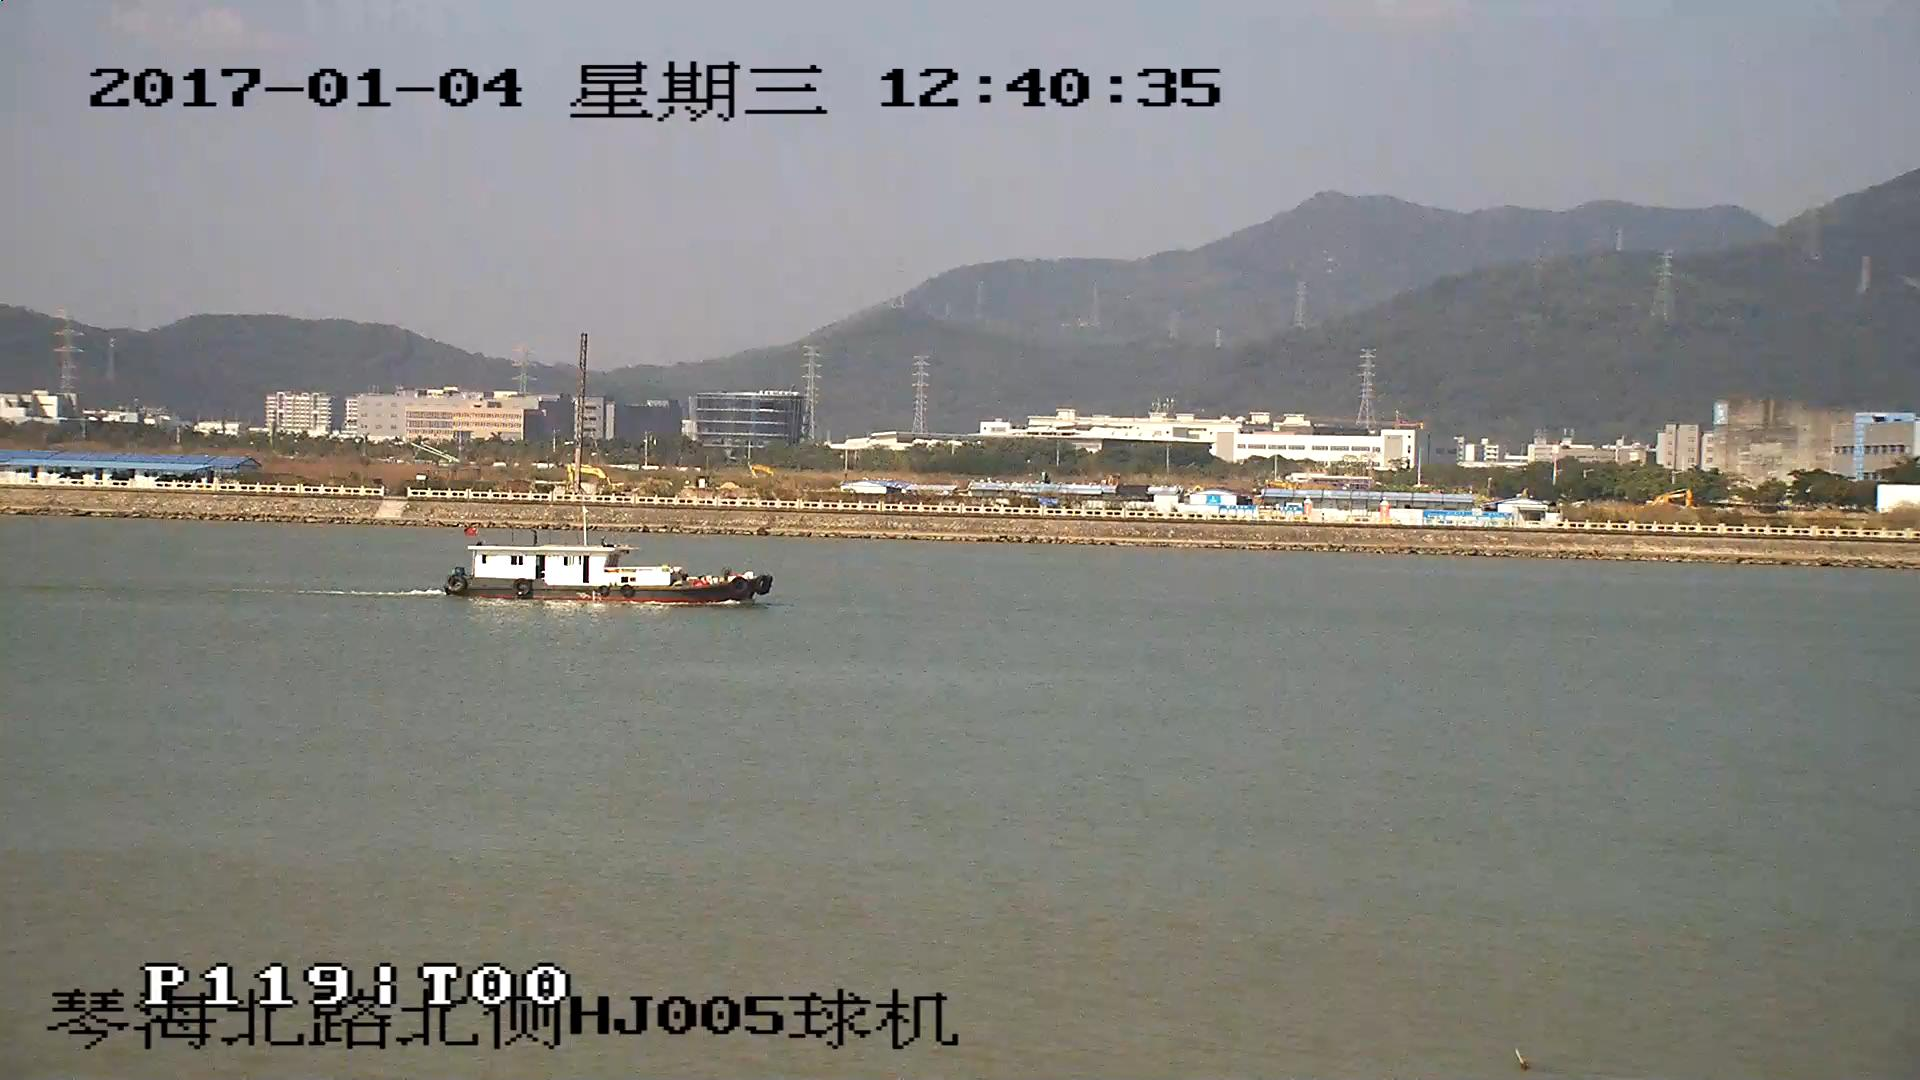fishing boat: (439, 523, 767, 604)
